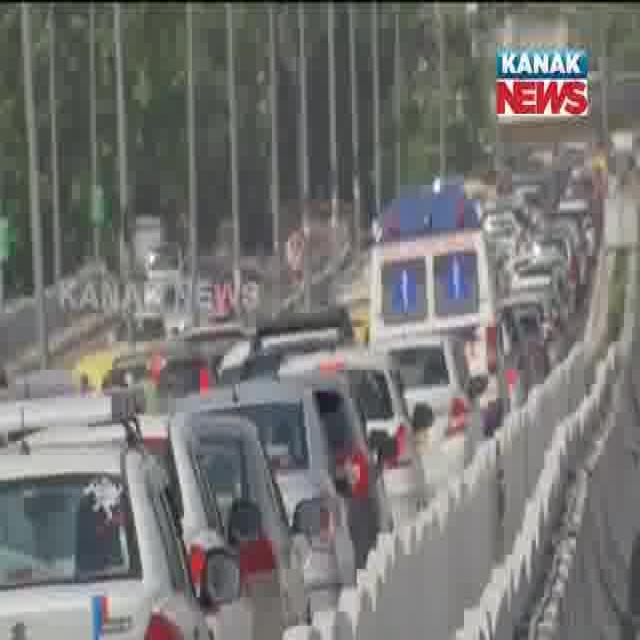ambulance: (361, 174, 501, 334)
